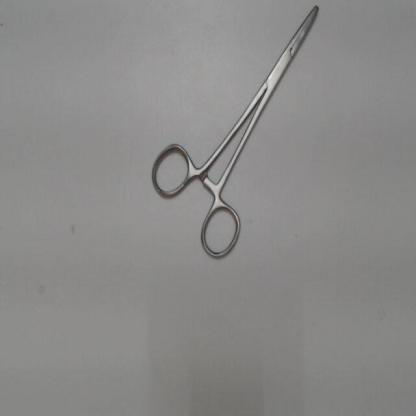Mayo Needle Holder: (144, 1, 326, 266)
